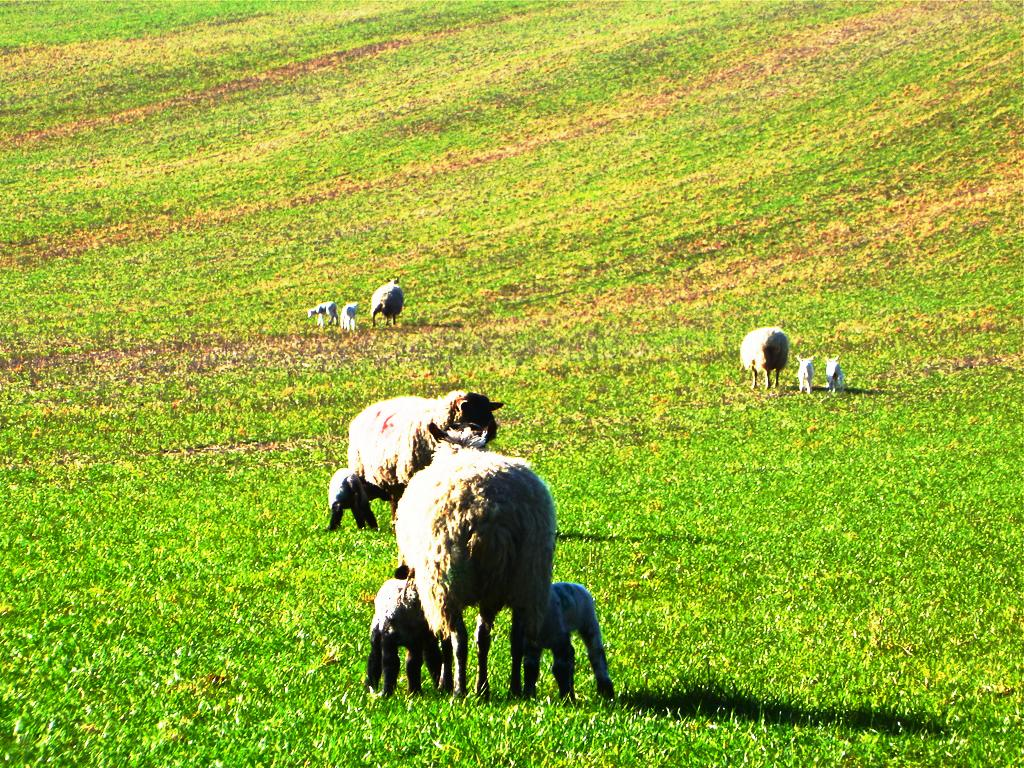Sheep: (395, 424, 562, 700), (350, 388, 498, 504), (528, 587, 612, 702), (368, 578, 446, 696), (329, 463, 381, 532), (737, 328, 789, 388), (370, 276, 408, 322), (799, 352, 814, 394), (308, 300, 334, 321), (825, 354, 842, 385), (342, 301, 356, 329)
